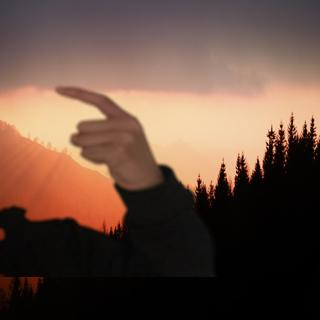WHY: (46, 78, 161, 188)
